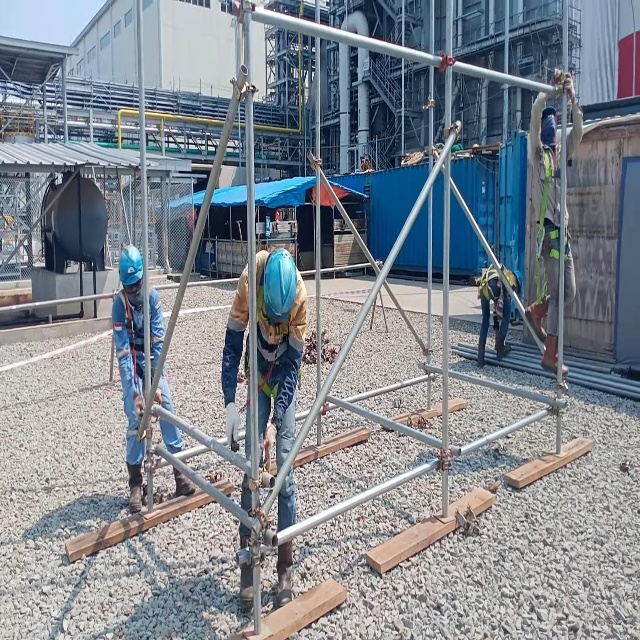Arnes_seguridad: (246, 263, 294, 402), (533, 143, 574, 267), (117, 286, 160, 383), (475, 262, 513, 312)
